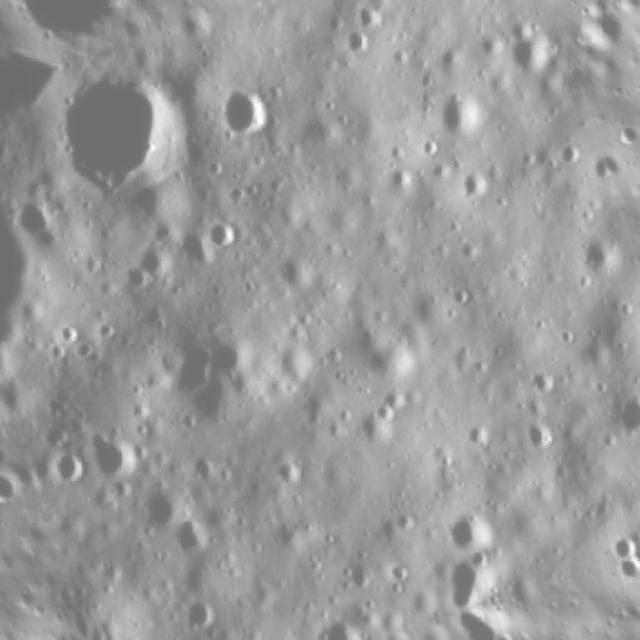crater: (42, 69, 178, 209), (202, 72, 286, 154), (496, 13, 564, 82), (568, 220, 635, 288), (81, 418, 145, 489), (432, 548, 490, 610), (8, 186, 59, 254), (438, 498, 498, 553), (128, 483, 186, 539), (431, 89, 489, 142), (167, 511, 218, 563), (39, 445, 93, 493), (173, 586, 222, 636), (201, 210, 247, 258), (611, 392, 640, 445), (549, 138, 585, 178), (604, 525, 640, 559)
